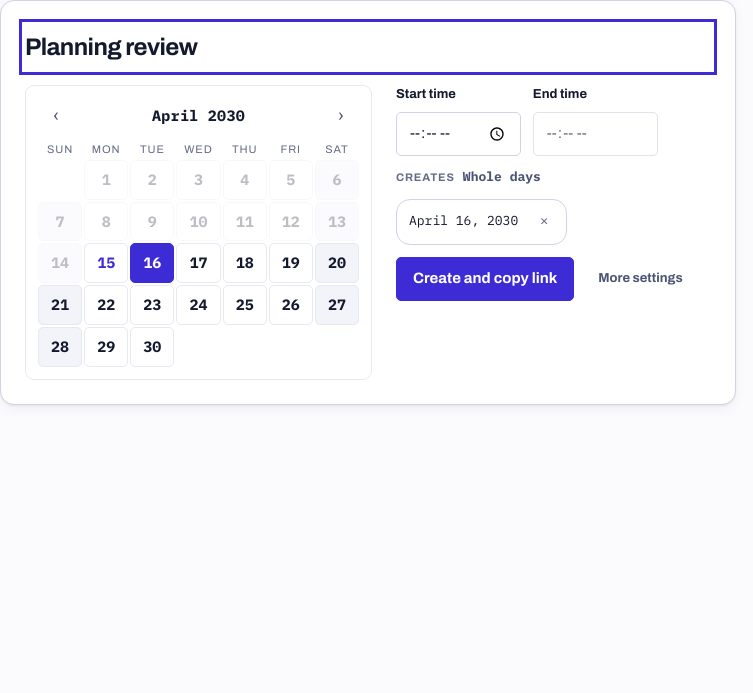
AppointmentComposer submission › keeps the creation on a failed copy and offers a manual retry
Click the button "Create and copy link" at coordinates (485, 279), box [396,257,574,301]
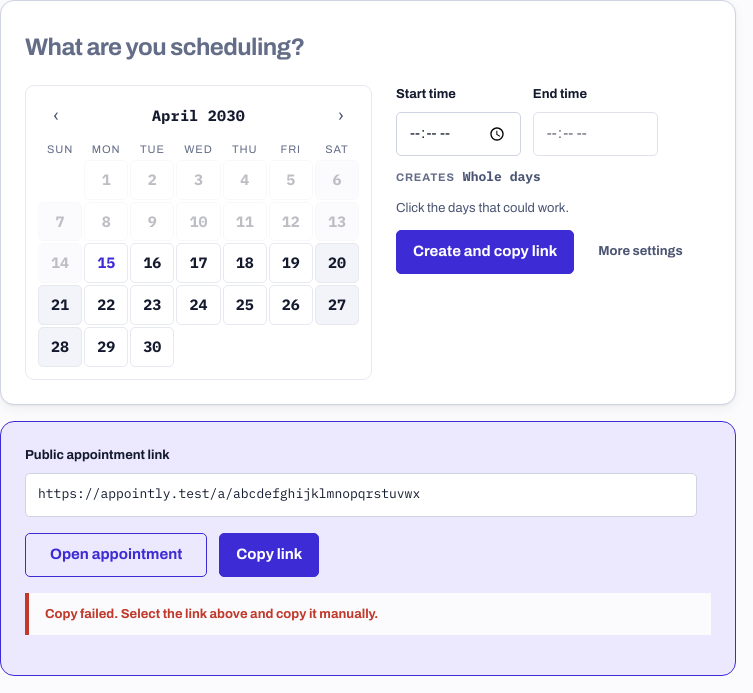
Expected: the message "Copy failed. Select the link above and copy it manually." is shown, [25,592,711,635]
Expected: the button "Copy link" is enabled, [219,532,319,576]
